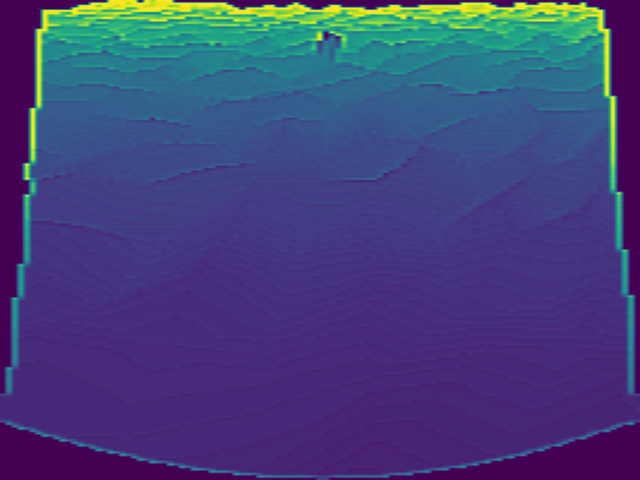car_0198: (316, 29, 343, 59)
